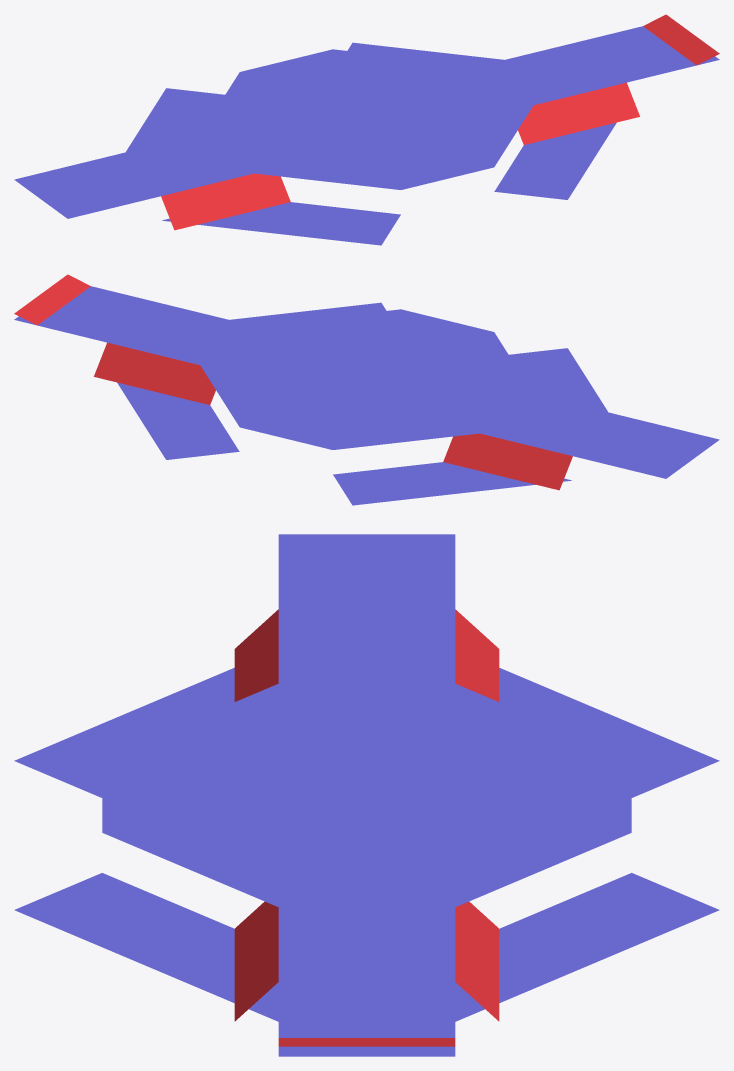
Rendered from StasisRoom_002_Floor_Top.fbx.
3 views of the same model, one above another, from view 1: azimuth 30°, elevation 25°; view 2: azimuth 150°, elevation 25°; view 3: azimuth 270°, elevation 25° (orthographic). The views are drawn at different scales.
Visible parts, largest first — view 1: StasisRoom_002_Floor_Top; view 2: StasisRoom_002_Floor_Top; view 3: StasisRoom_002_Floor_Top.
Part boxes in pixels (x1,y1,x2,y2): StasisRoom_002_Floor_Top: (14,14,719,245); StasisRoom_002_Floor_Top: (14,274,719,505); StasisRoom_002_Floor_Top: (14,534,719,1056).
Bounding box in the file's own units: 2800 × 125 × 1600.
